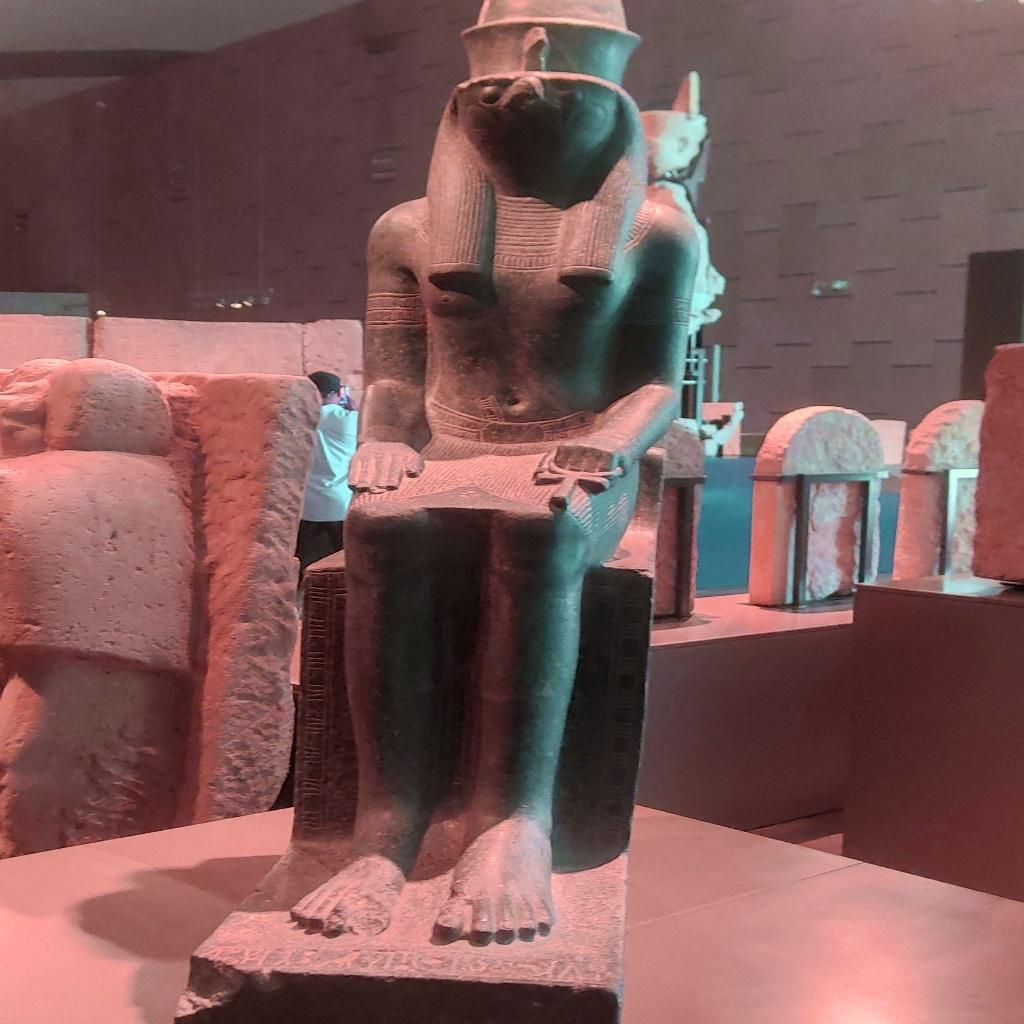Statue of God Ra-Horakhty: (270, 2, 720, 950)
